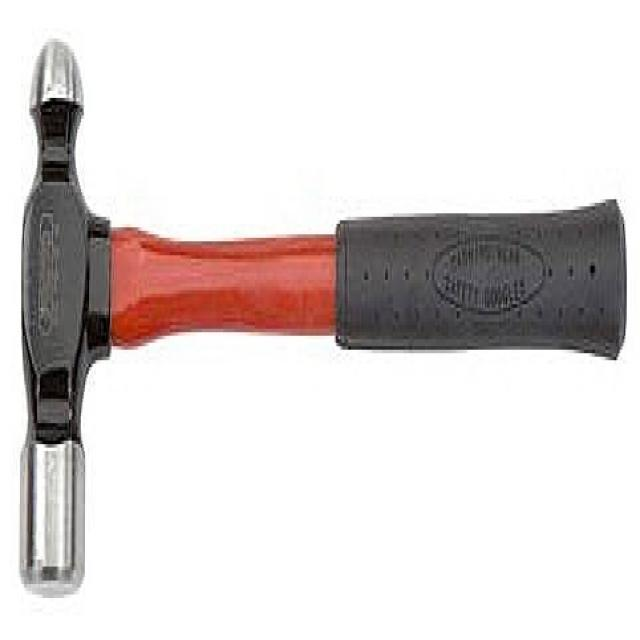hammer: (4, 25, 636, 620)
